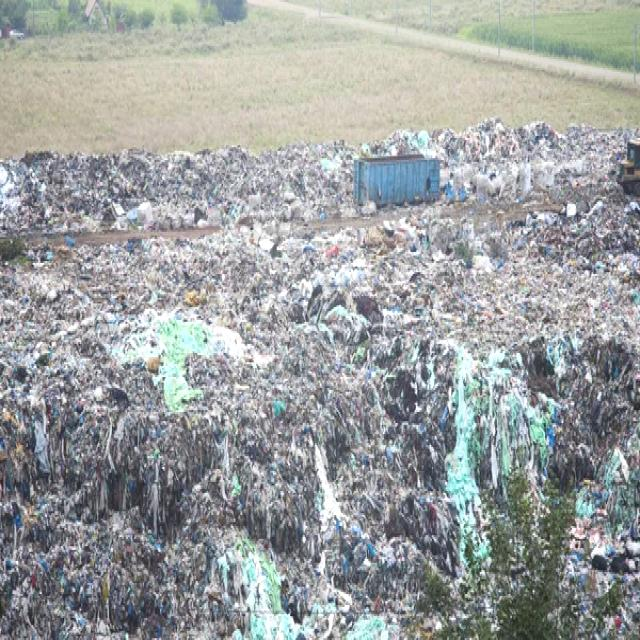garbage: (41, 92, 619, 608)
